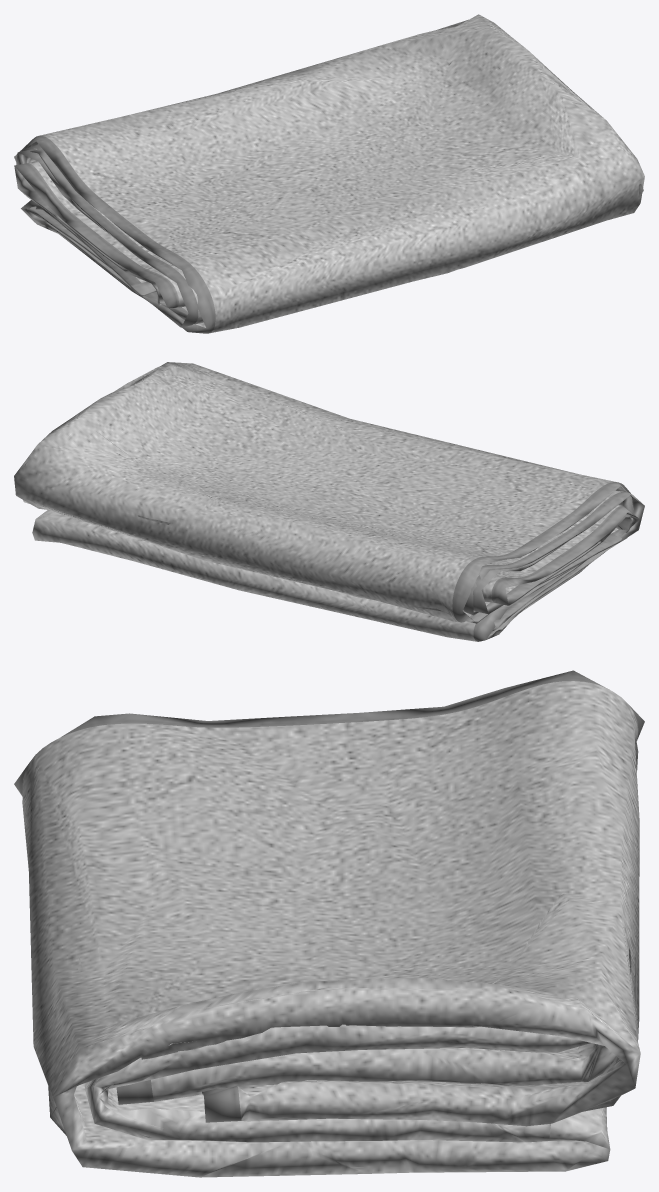
Rendered from cleaning_towel_folded_a01.glb.
3 renders of one model, top to bottom at view 1: azimuth 30°, elevation 25°; view 2: azimuth 150°, elevation 25°; view 3: azimuth 270°, elevation 25°, orthographic. The views are drawn at different scales.
Visible parts, largest first — view 1: sm_cleaning_towel_folded_a01_01; view 2: sm_cleaning_towel_folded_a01_01; view 3: sm_cleaning_towel_folded_a01_01.
Part boxes in pixels (box(x1,y1,x2,y2)): sm_cleaning_towel_folded_a01_01: box(14, 14, 644, 333); sm_cleaning_towel_folded_a01_01: box(14, 362, 644, 641); sm_cleaning_towel_folded_a01_01: box(14, 670, 644, 1177).
Size of the model in its own units: 0.2649 by 0.0576 by 0.1799.
Materials: 2 (2 with a texture image).
